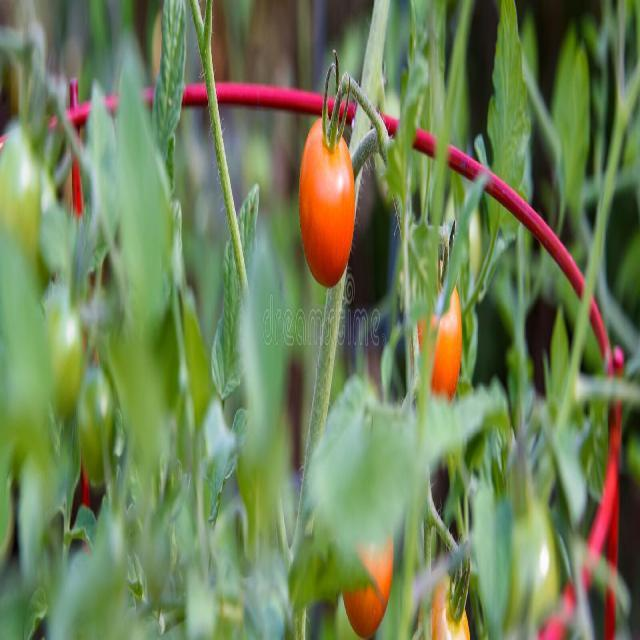kirmizi: (294, 106, 386, 296)
